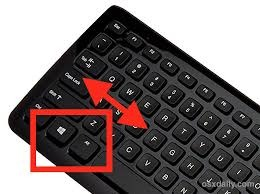keyboard: (0, 0, 256, 194)
